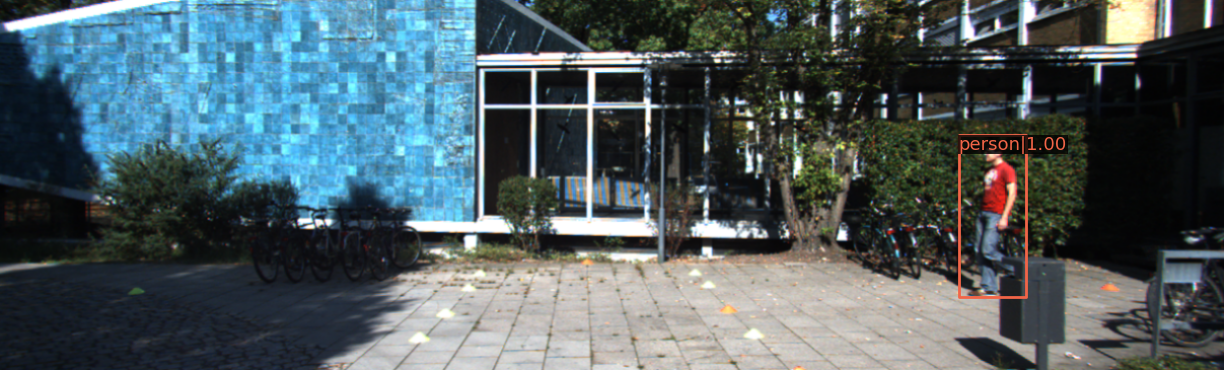person: (947, 137, 1027, 304)
